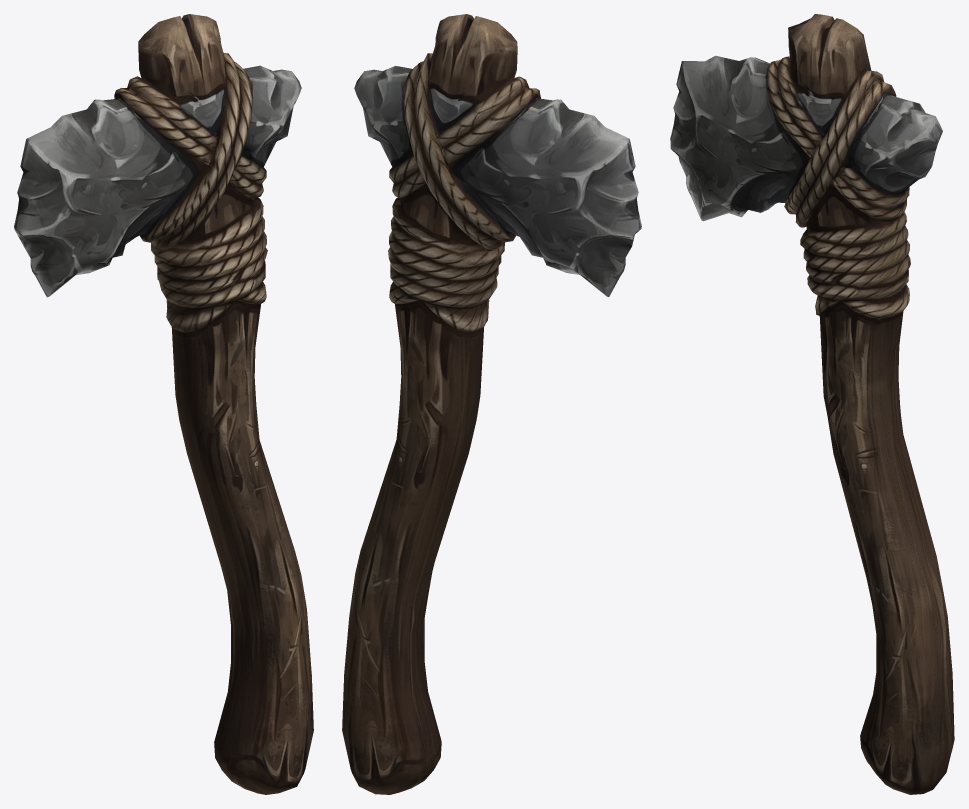
The model's file is stone_axe.glb.
3 renders of one model, left to right at view 1: azimuth 30°, elevation 25°; view 2: azimuth 150°, elevation 25°; view 3: azimuth 330°, elevation 25°, orthographic. The views are drawn at different scales.
Bounding box in the file's own units: 0.3903 × 1 × 0.1256.
1 material, 1 textured.
